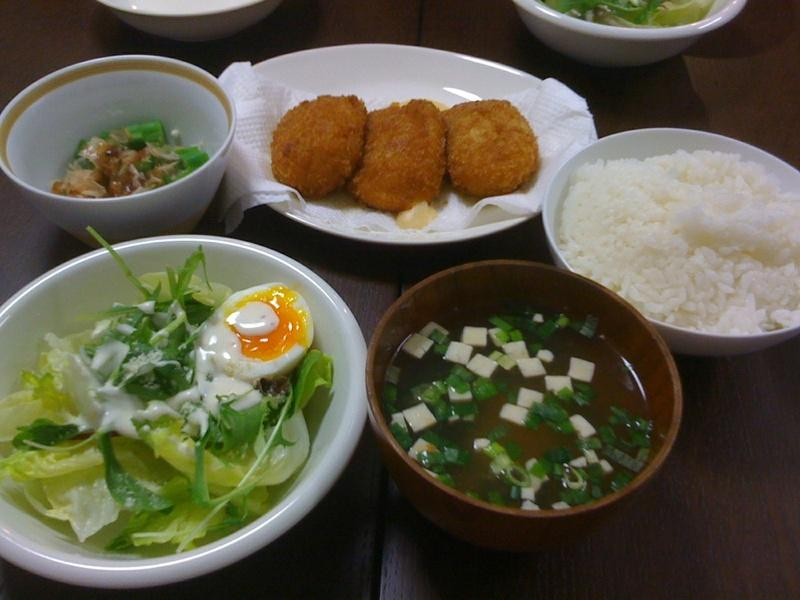plate: (541, 128, 799, 271)
rice: (560, 151, 799, 336)
